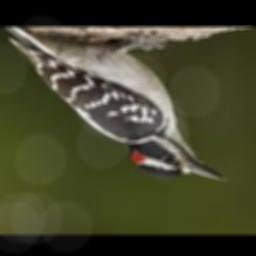Woodpecker: (3, 27, 225, 182)
